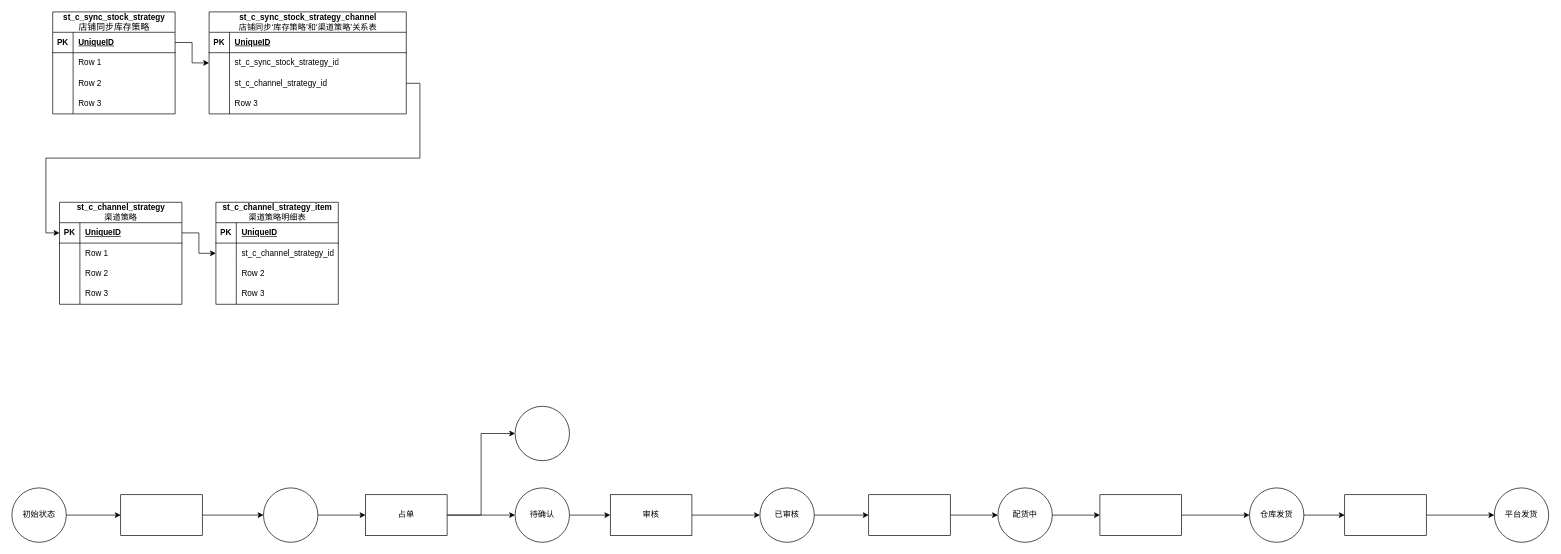
Some shapes in this 1561 by 554 pixel diagram are drawn without their labels. The shapes that lost their labels are listed below. From the top down, each one's centre as x and y in pixels, then its label:
At (542,433): "缺货".
At (161,515): "转单".
At (290,514): "待分配".
At (909,515): "WMS回调 出库单已生成".
At (1140,515): "WMS回调 已发货".
At (1385,515): "通知平台发货".
